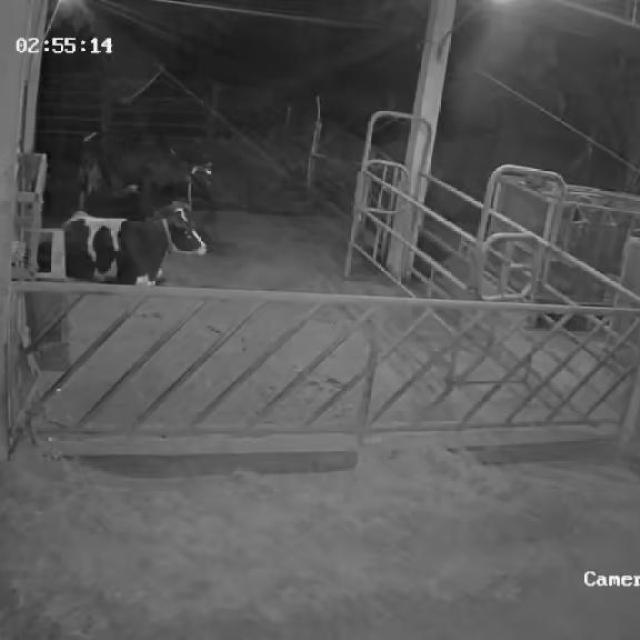lying down: (59, 200, 210, 288)
standing: (74, 122, 226, 237)
